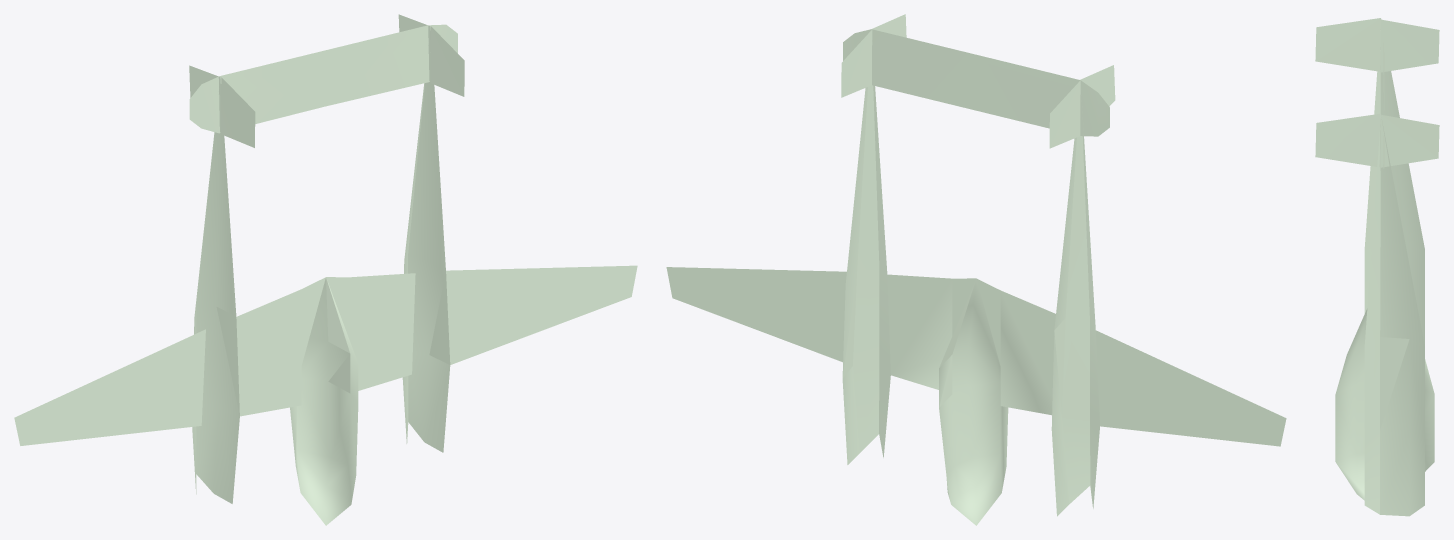
File: ps2_save-icons_ww2battleoverthepacific.glb
3 renders of one model, left to right at view 1: azimuth 30°, elevation 25°; view 2: azimuth 150°, elevation 25°; view 3: azimuth 270°, elevation 25°, orthographic. The views are drawn at different scales.
Parts seen in each view (by area): view 1: icon.ico; view 2: icon.ico; view 3: icon.ico.
Boxes of the visible parts, bbox=[...] form: icon.ico: bbox=[14, 14, 637, 525]; icon.ico: bbox=[666, 14, 1286, 525]; icon.ico: bbox=[1315, 18, 1439, 516].
Size of the model in its own units: 4.46 by 3.24 by 0.8149.
1 material, 1 textured.
